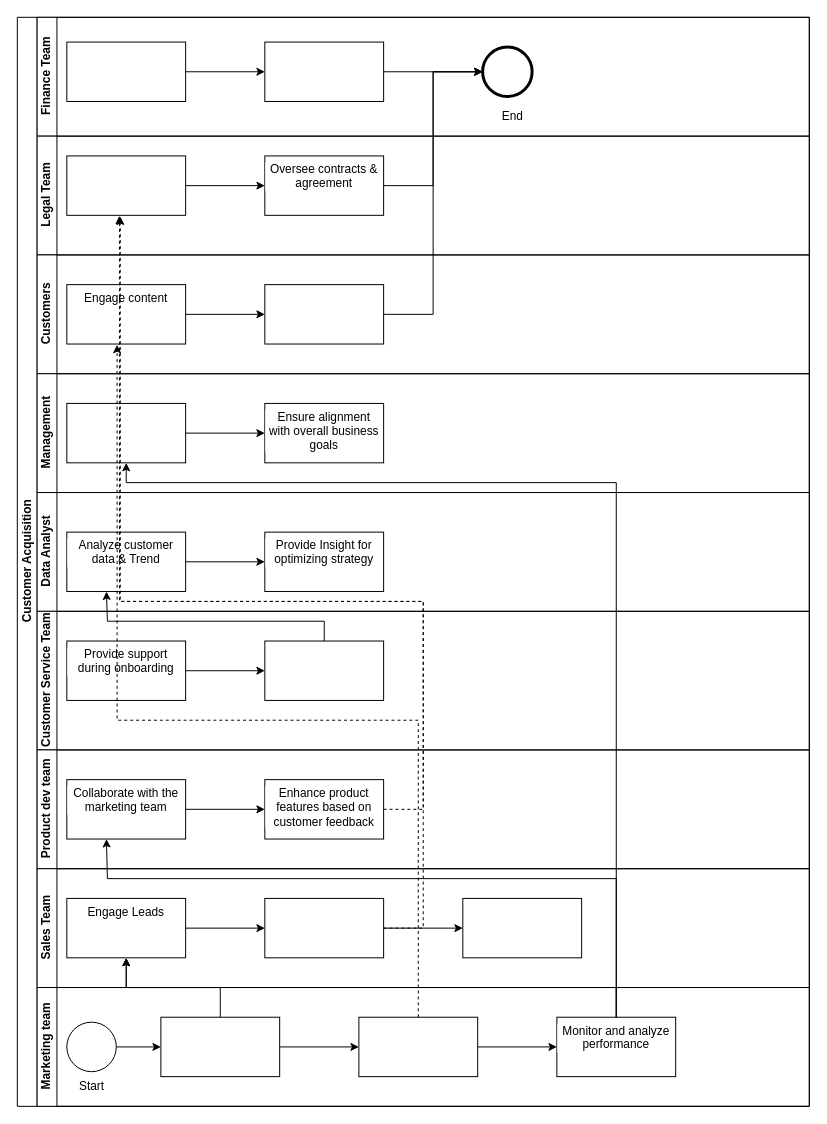
This 827x1124 diagram has some shape labels left out. Here are the shapes that lost their labels. From the top down, the centre of each, then its label:
At pixel 126 71: "Manage Budget".
At pixel 324 71: "Access ROI".
At pixel 126 185: "Acquisition Process".
At pixel 324 314: "Provide feedback & Referrals".
At pixel 126 432: "Customer Acquisition strategy".
At pixel 324 670: "Offer customer assistance".
At pixel 324 927: "Lead conversion".
At pixel 522 927: "Maintain relationship with existing customers".
At pixel 220 1046: "Identify target audience".
At pixel 418 1046: "Create content".
